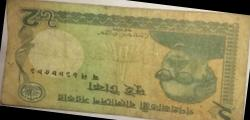2 taka: (7, 1, 244, 120)
